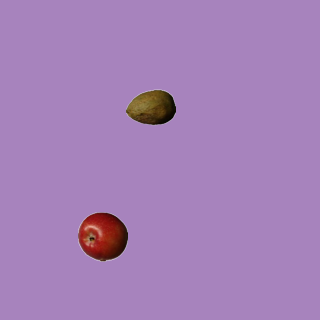Apple Braeburn: (77, 211, 127, 261)
Papaya: (125, 82, 175, 132)
